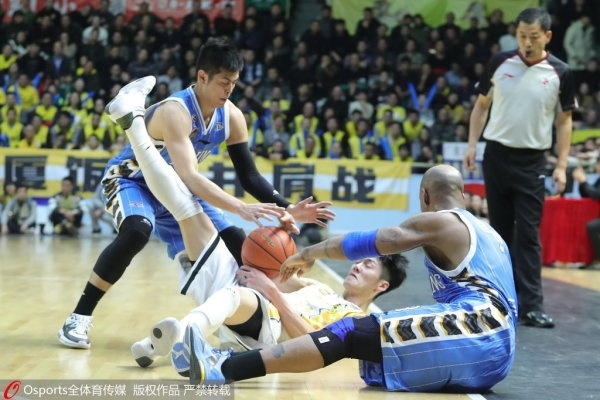falling: (138, 164, 524, 393)
